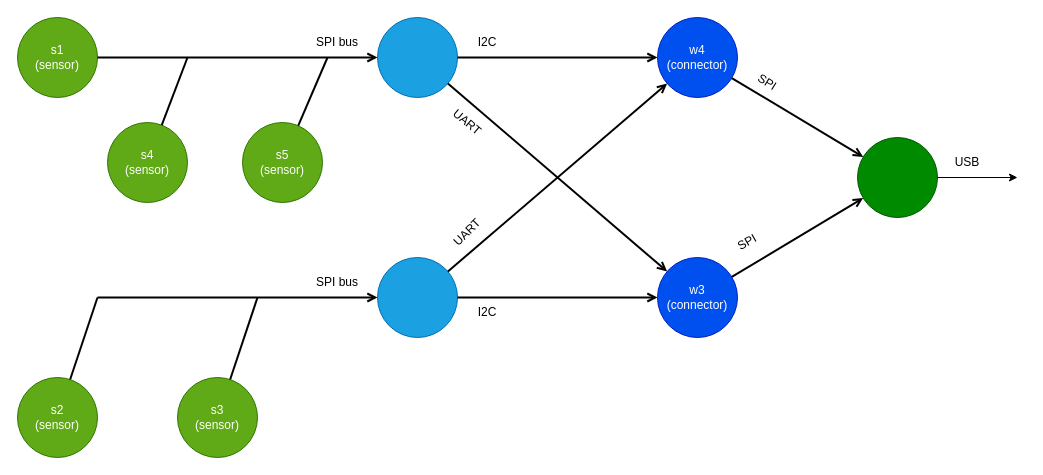
This 1043x475 diagram has some shape labels left out. Each missing label, with the centre of its shape:
"w0 (master)" goes at pixel 897 177.
"w1 (repeater)" goes at pixel 417 57.
"w2 (repeater)" goes at pixel 417 297.
